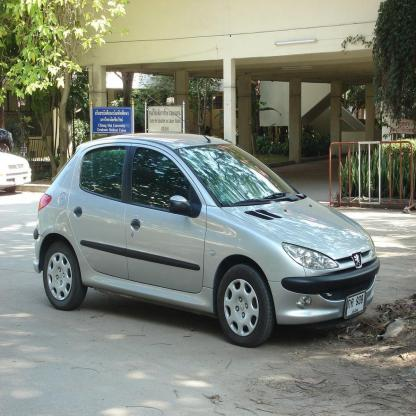Car: (32, 134, 381, 352), (0, 148, 31, 191)
